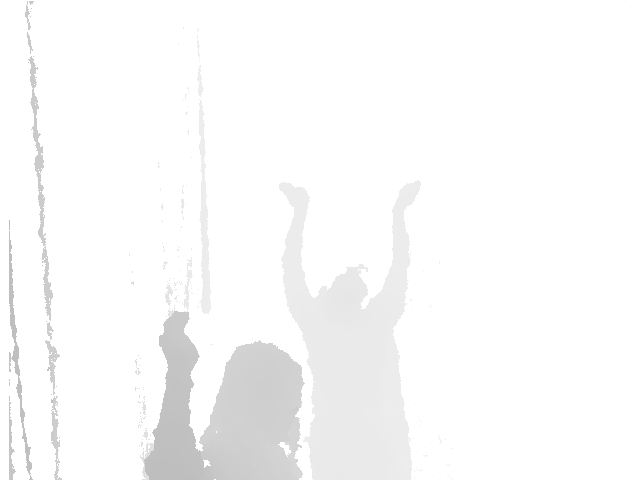hand: (159, 311, 200, 372), (277, 180, 311, 211), (391, 180, 422, 211)
head: (203, 341, 301, 457), (318, 263, 375, 308)
person: (277, 179, 422, 480), (142, 311, 304, 480)
